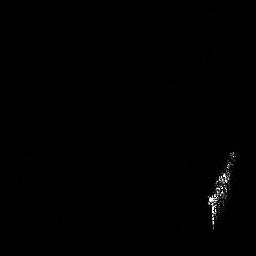ship: (202, 147, 239, 232)
